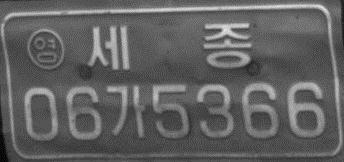0: (23, 85, 58, 142)
3: (196, 82, 234, 138)
5: (152, 83, 189, 139)
6: (241, 82, 280, 139), (287, 81, 326, 138), (65, 85, 102, 140)
가: (106, 84, 146, 140)
세종_D: (86, 22, 252, 69)
영: (26, 28, 65, 69)
